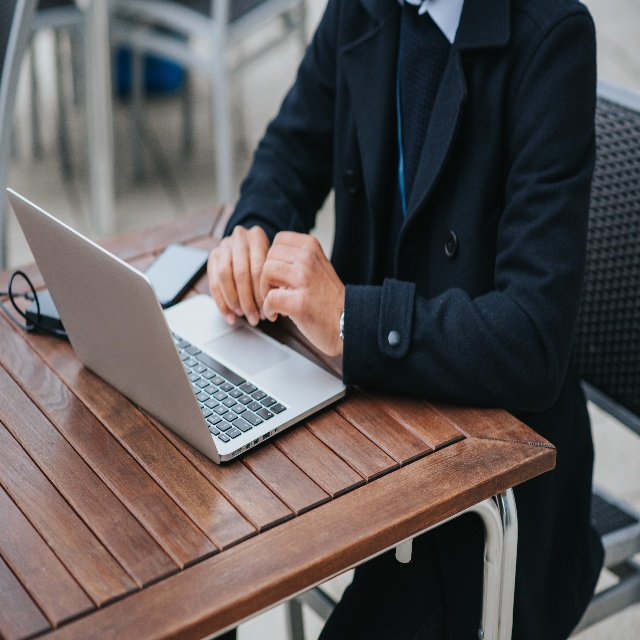Sin_guantes: (261, 230, 342, 356), (207, 223, 272, 329)
